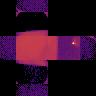earth: (15, 29, 58, 67)
